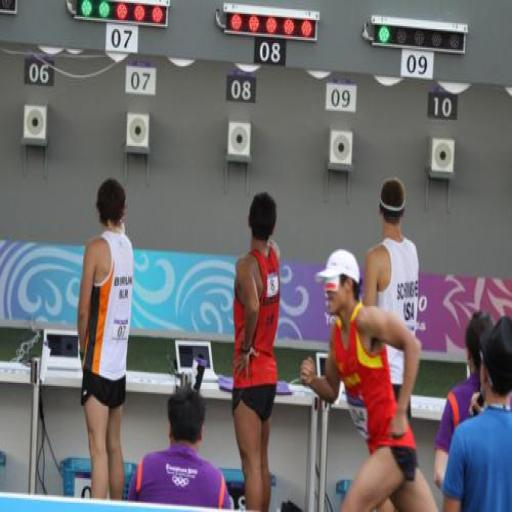shooting: (325, 160, 445, 440), (75, 175, 138, 503), (229, 189, 285, 511)
